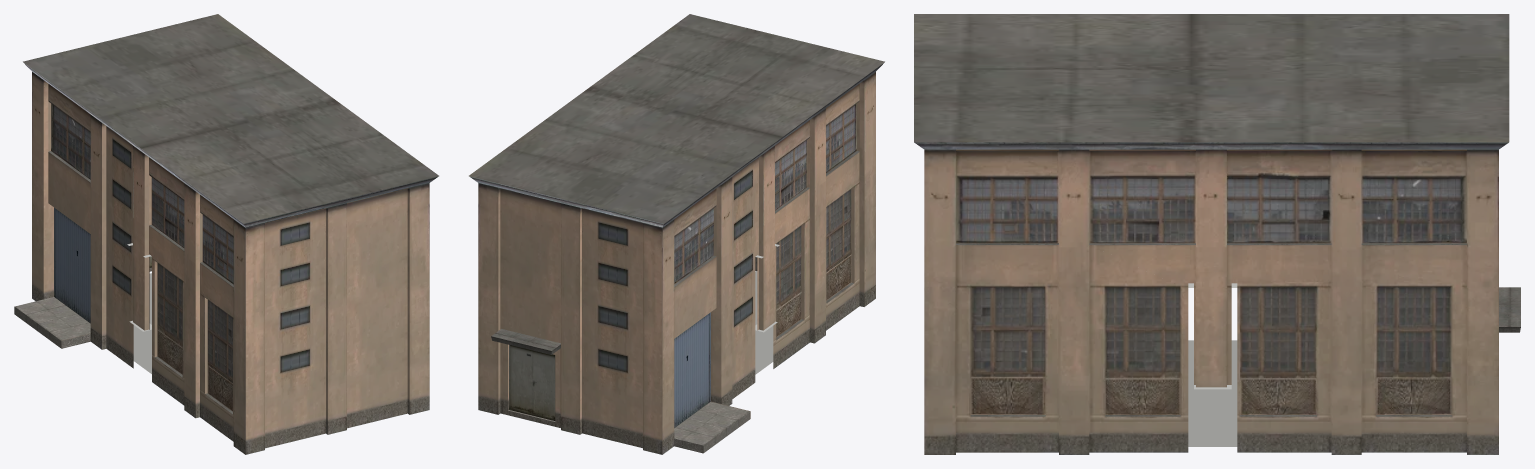
Rendered from factory-hall.access-v12.lod1.glb.
The picture shows the model from 3 angles, left to right: view 1: azimuth 30°, elevation 25°; view 2: azimuth 150°, elevation 25°; view 3: azimuth 270°, elevation 25°; orthographic projection. The views are drawn at different scales.
Visible parts, largest first — view 1: factory_1_factory_1_0, Walkable floors and stairs; view 2: factory_1_factory_1_0, Walkable floors and stairs; view 3: factory_1_factory_1_0, Walkable floors and stairs.
Boxes of the visible parts, x1=… form: factory_1_factory_1_0: x1=14, y1=14, x2=438, y2=454; Walkable floors and stairs: x1=133, y1=273, x2=151, y2=373; factory_1_factory_1_0: x1=469, y1=14, x2=884, y2=454; Walkable floors and stairs: x1=755, y1=271, x2=773, y2=374; factory_1_factory_1_0: x1=914, y1=14, x2=1520, y2=454; Walkable floors and stairs: x1=1188, y1=340, x2=1237, y2=446.
Bounding box in the file's own units: 14.59 × 14.96 × 26.
Materials: 3 (1 with a texture image).
